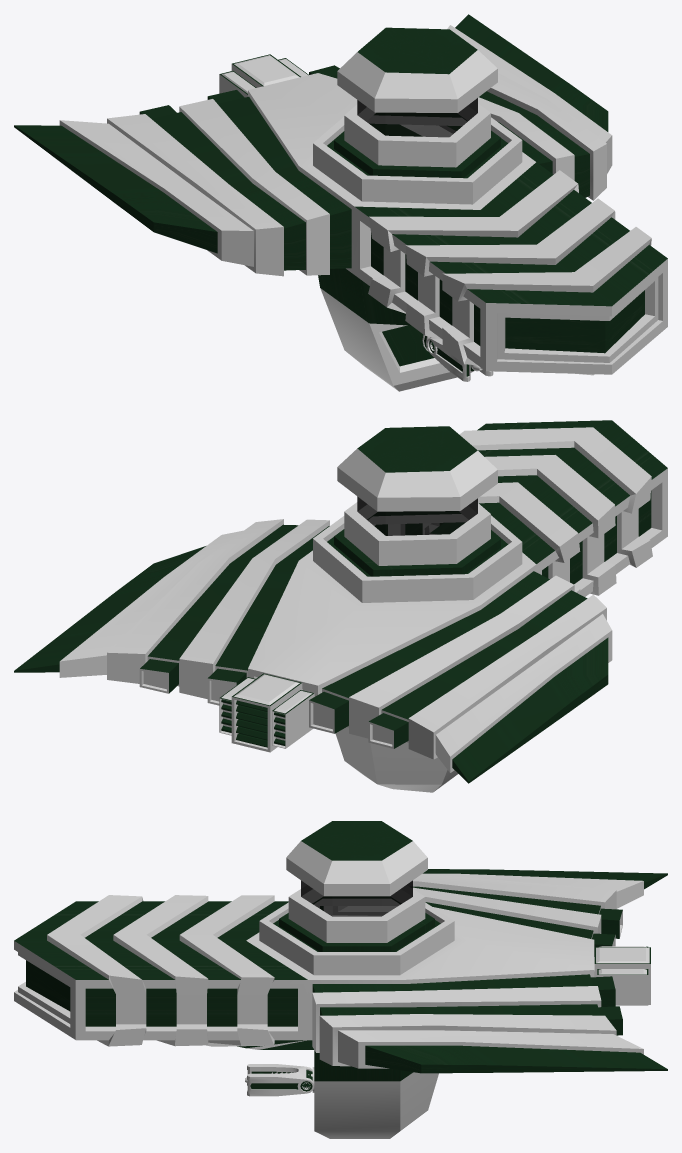
Rendered from DED.fbx.
The picture shows the model from 3 angles, top to bottom: view 1: azimuth 30°, elevation 25°; view 2: azimuth 150°, elevation 25°; view 3: azimuth 270°, elevation 25°; orthographic projection. The views are drawn at different scales.
Visible parts, largest first — view 1: DED; view 2: DED; view 3: DED.
Boxes of the visible parts, <box> form: DED: <box>14,14,667,391</box>; DED: <box>14,420,667,792</box>; DED: <box>14,821,667,1138</box>.
Bounding box in the file's own units: 6.01 × 4.06 × 8.49.
